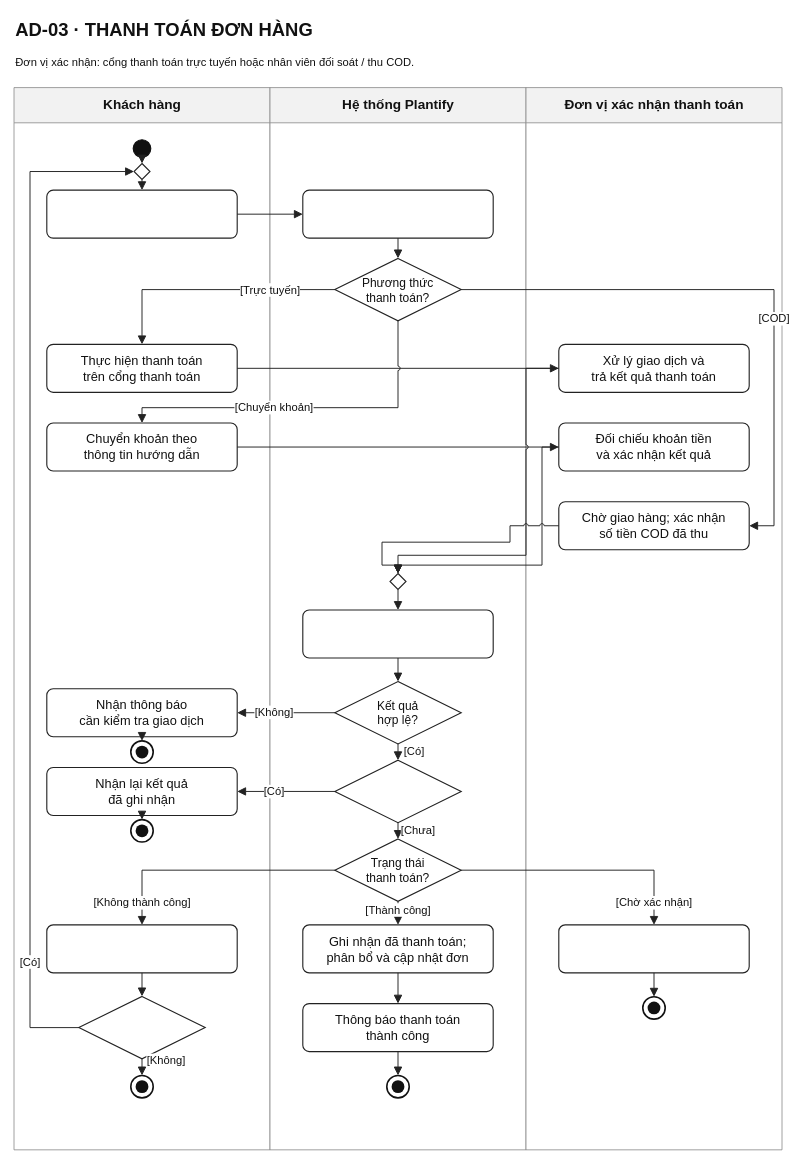
Some shapes in this 804 by 1164 pixel diagram are drawn without their labels. The shapes that lost their labels are listed below. From the top down, each one's box as (x1, y1, x2, y2) in pixels, then its label:
(46, 189, 237, 238): Chọn phương thức thanh toán
(302, 189, 493, 238): Ghi nhận yêu cầu thanh toán
(302, 609, 493, 658): Xác minh nguồn xác nhận, mã giao dịch và số tiền
(334, 759, 461, 823): Kết quả đã được ghi nhận?
(46, 924, 237, 973): Nhận kết quả thất bại, hủy hoặc hết hạn
(558, 924, 749, 973): Theo dõi giao dịch đang chờ xác nhận
(78, 995, 205, 1059): Thanh toán lại?
